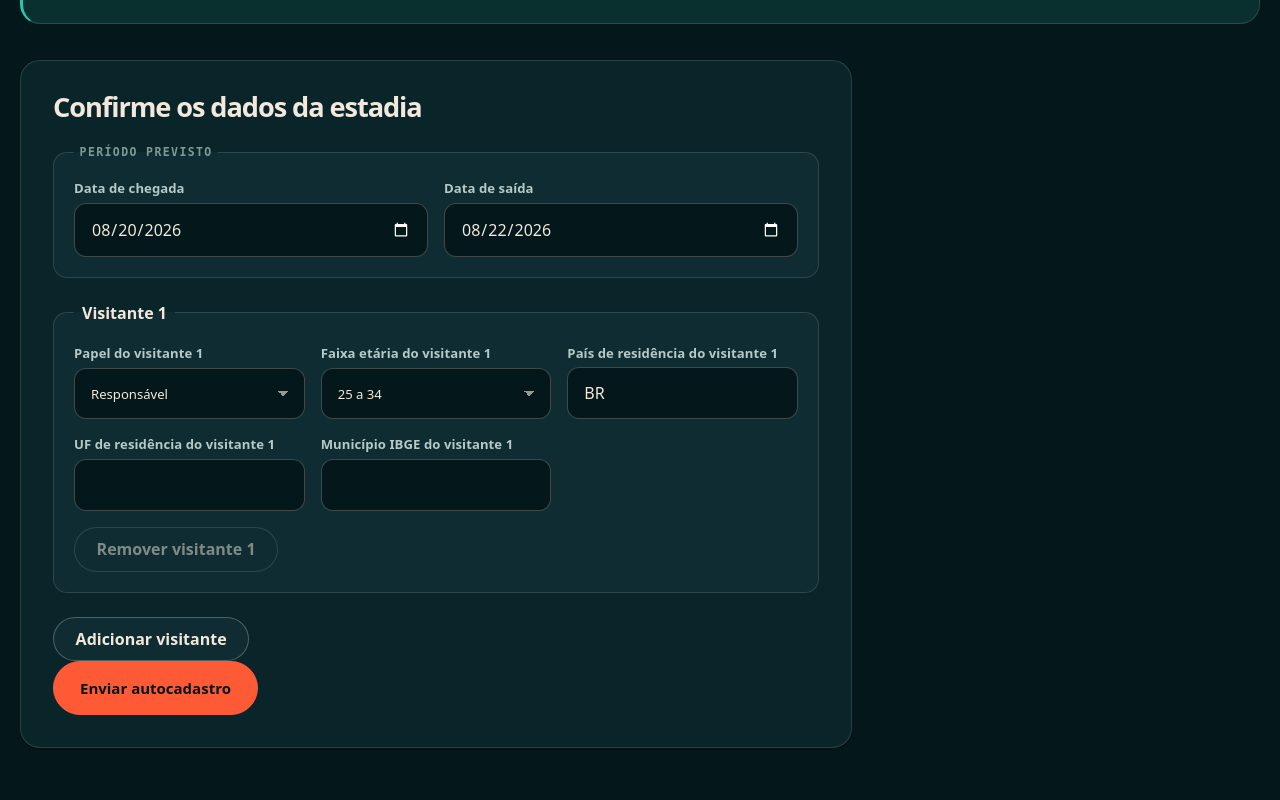
autocadastro pelo cartaz da acomodação › informa a espera do 429 sem descartar o que foi preenchido
(page scrolled)
Type "BA" into the field labelled "UF de residência do visitante 1" at (189, 485), box [74,459,305,511]
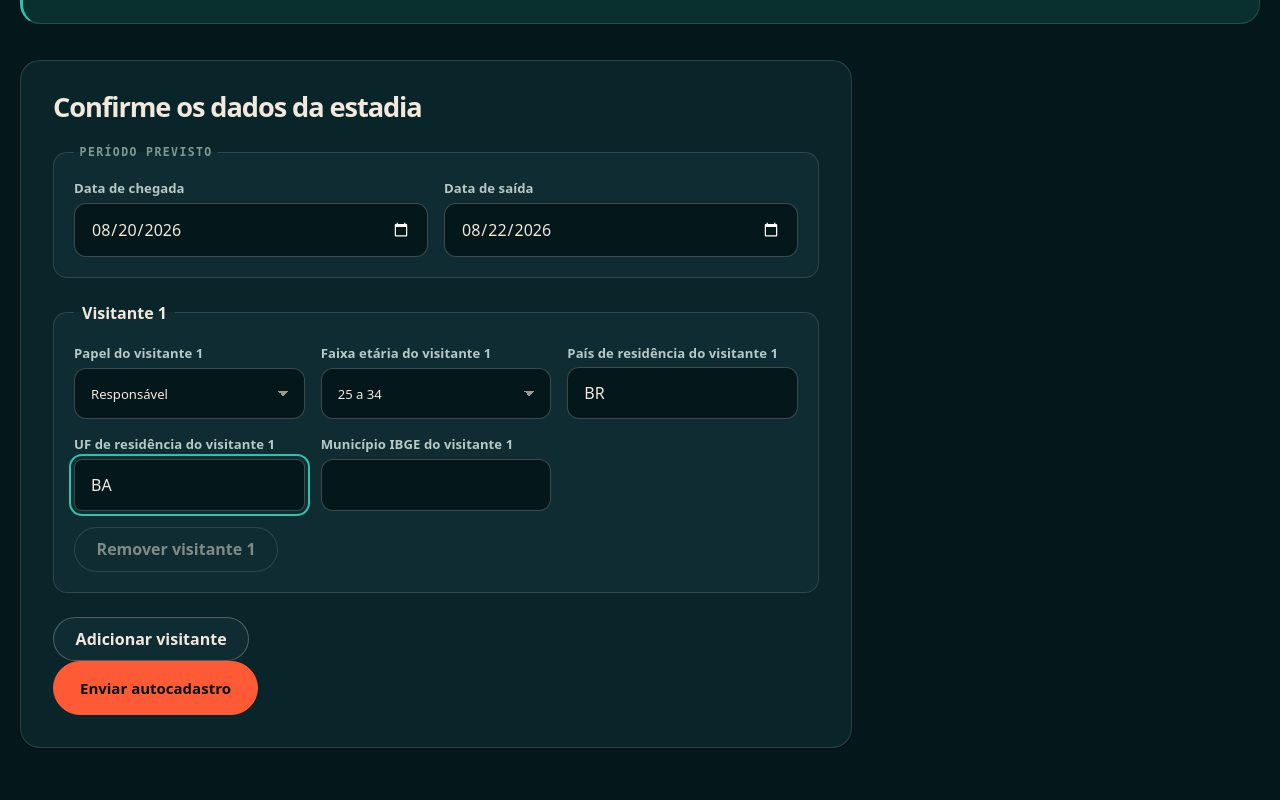
Type "2925509" into the field labelled "Município IBGE do visitante 1" at (436, 485), box [321,459,551,511]
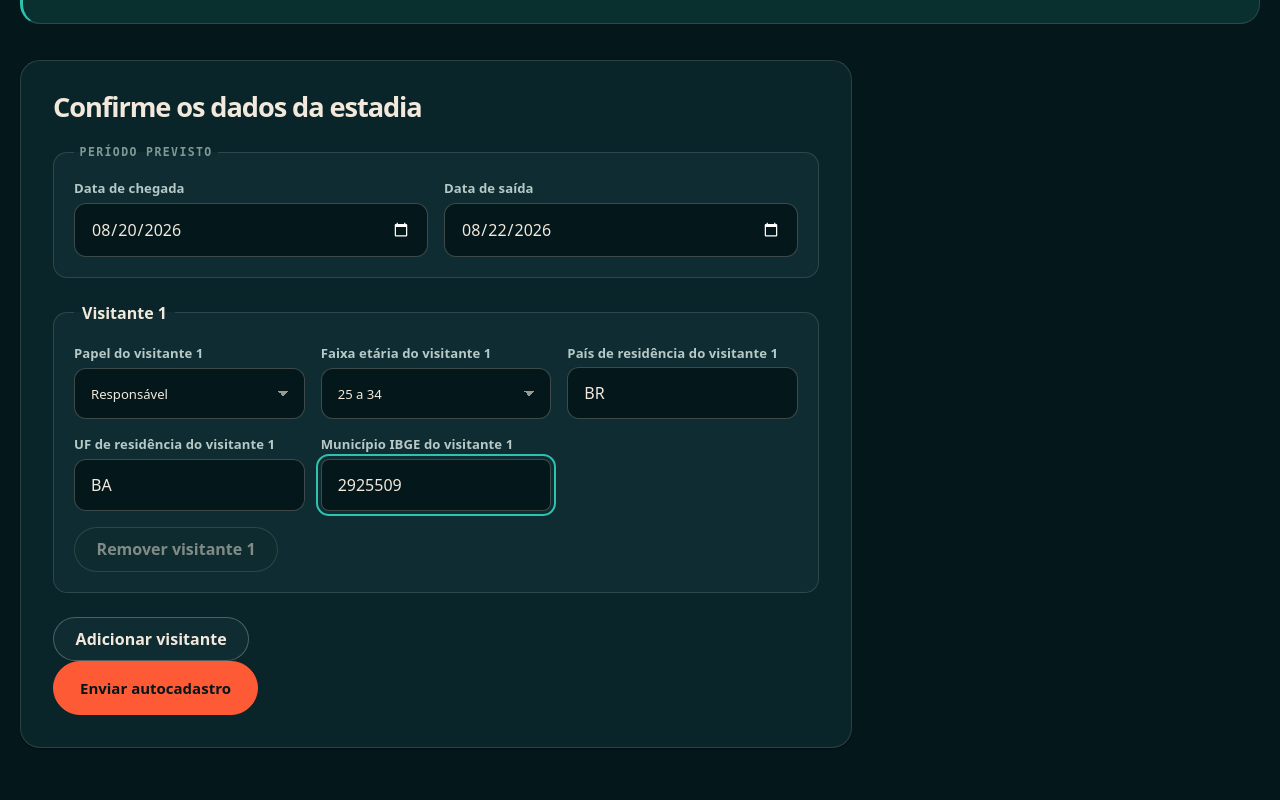
Click the button "Enviar autocadastro" at (155, 688), box [53,661,258,715]
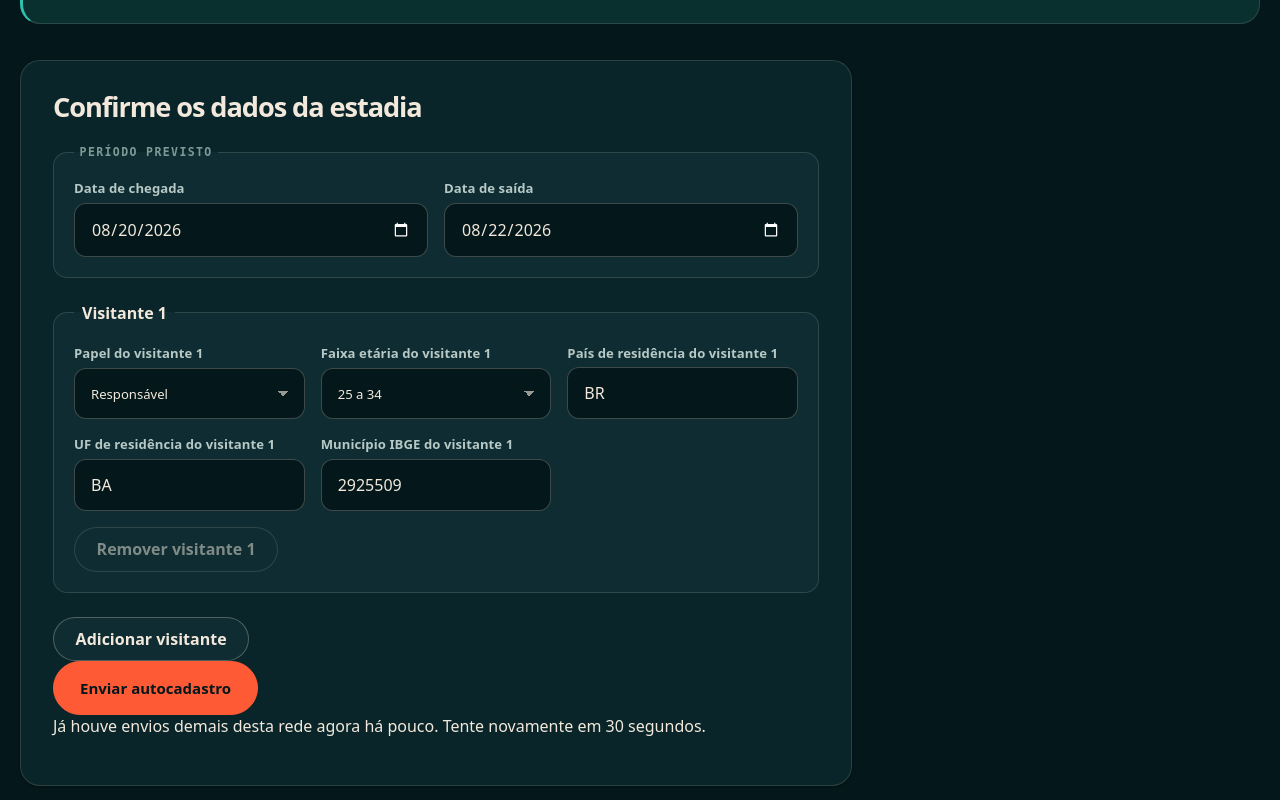
Result: the text "30 segundos" is shown at [53,715,706,737]
